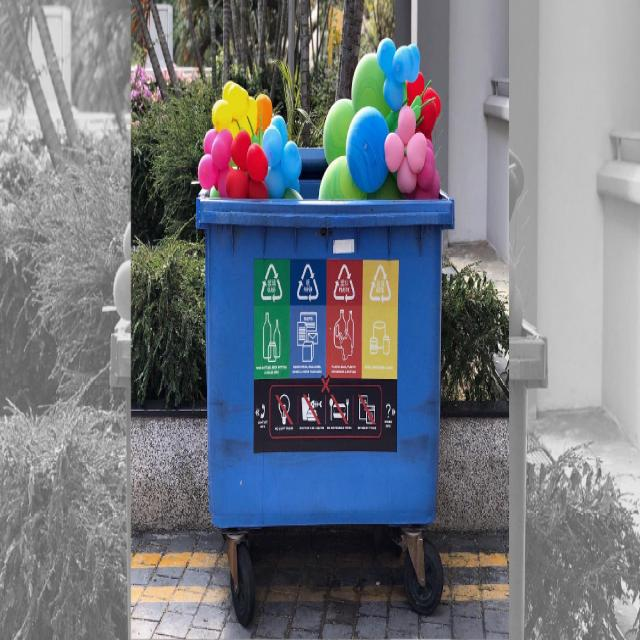bin_full: (197, 145, 443, 630)
normal_waste: (316, 46, 434, 180)
